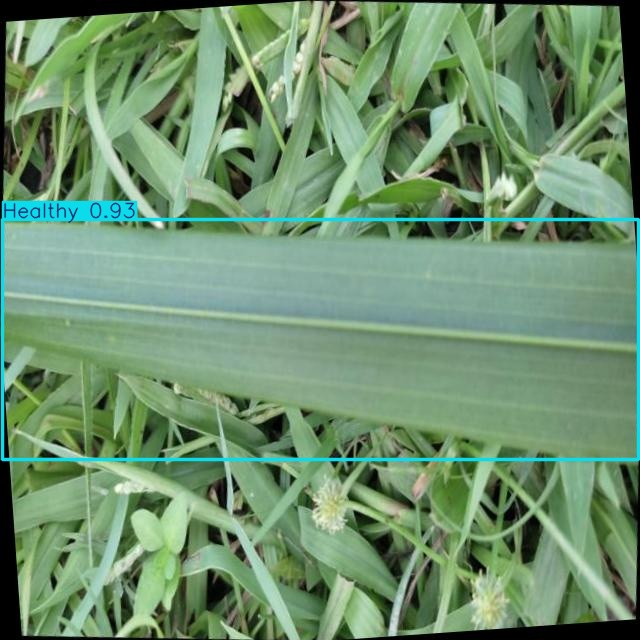Healthy: (2, 219, 638, 460)
